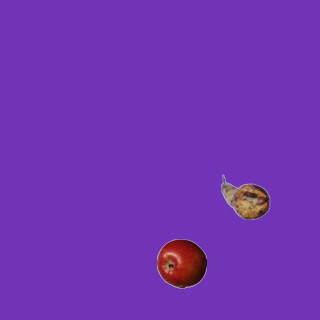Apple Braeburn: (156, 238, 206, 288)
Pear Abate: (220, 172, 270, 222)
